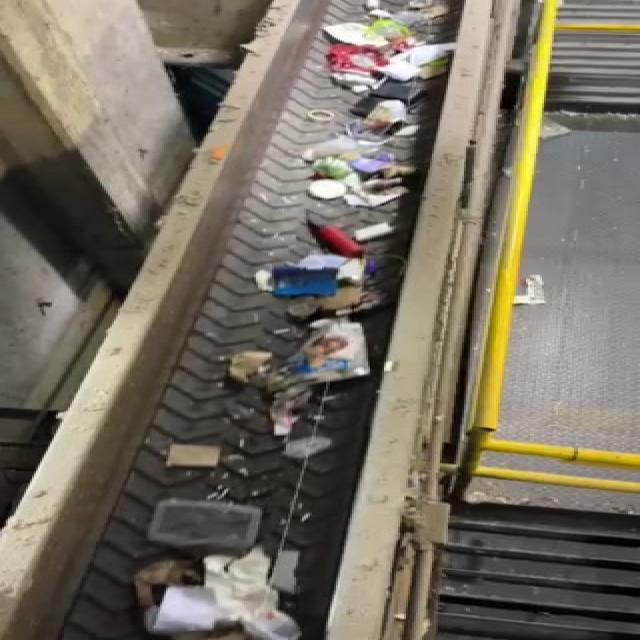pp: (139, 493, 267, 556)
